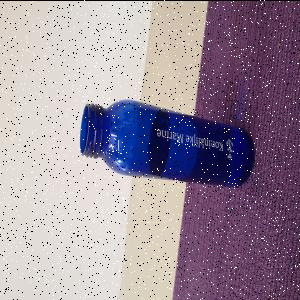Plastic-bottle: (80, 98, 257, 189)
